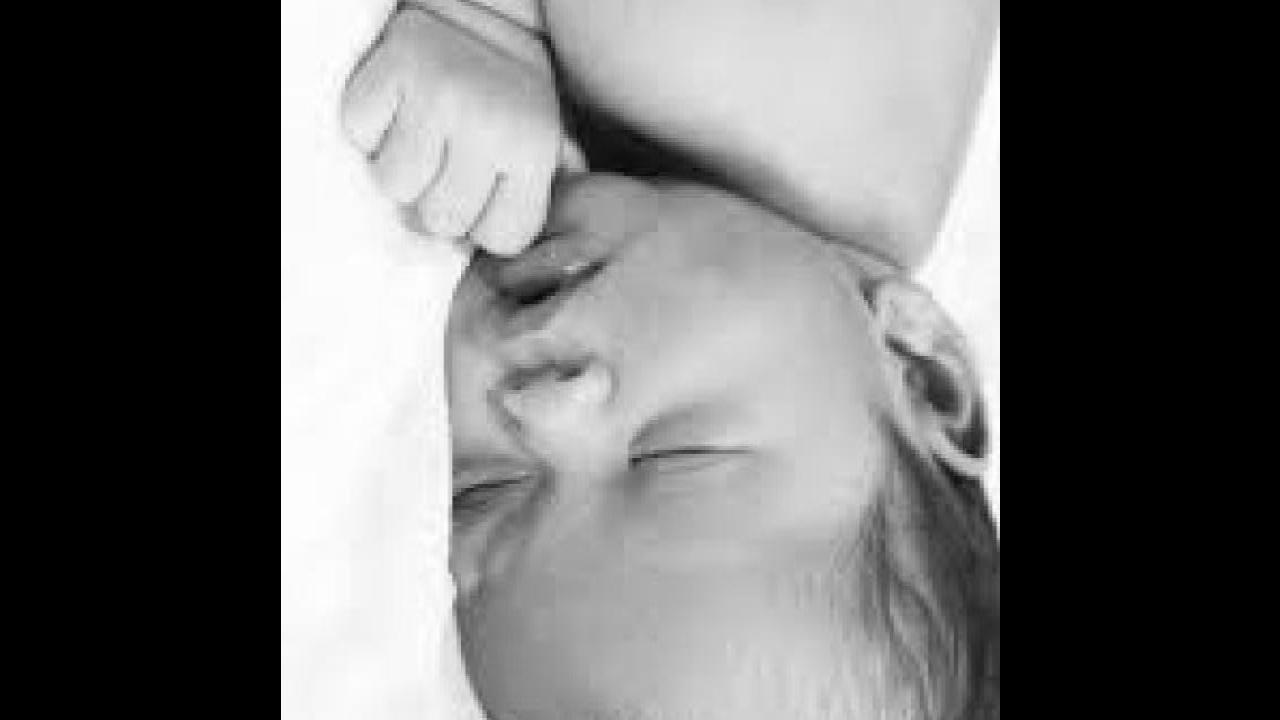hand: (337, 0, 561, 256)
